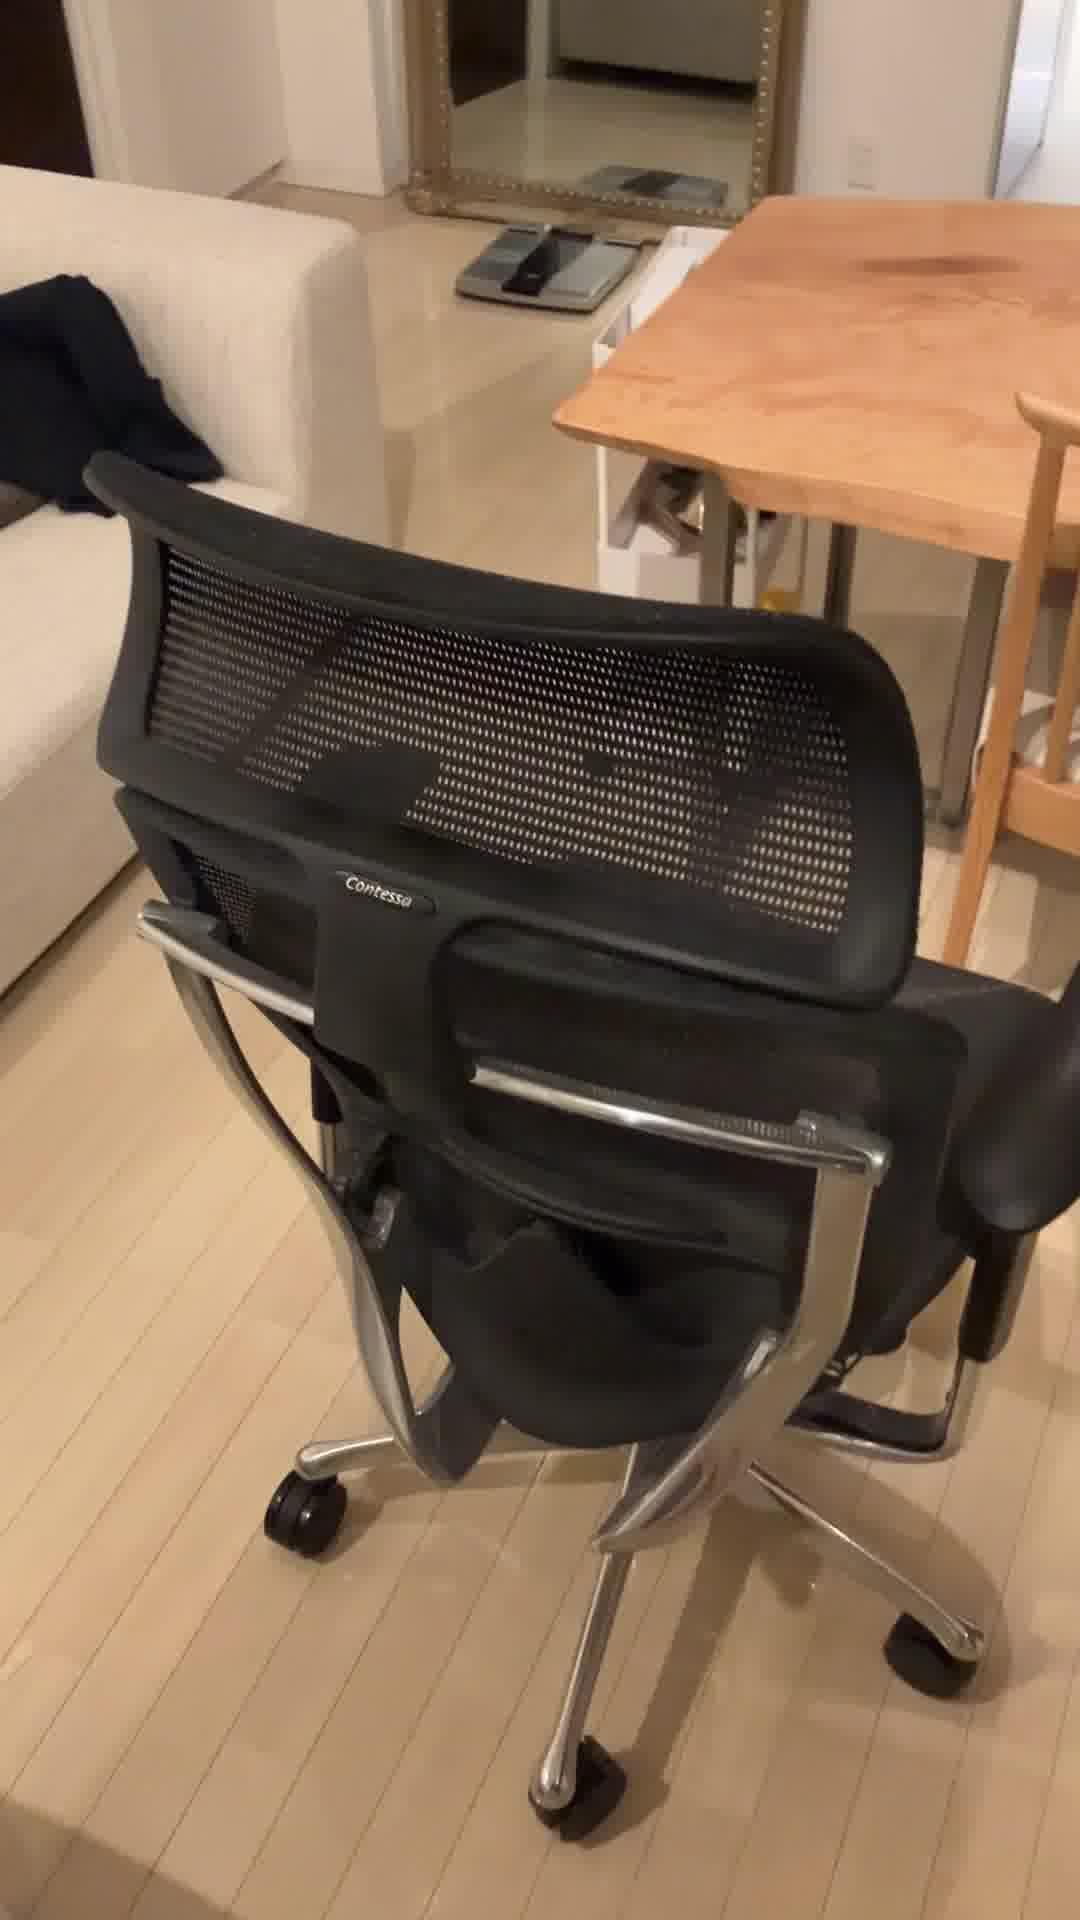okamura-contessa: (74, 438, 1080, 1846)
